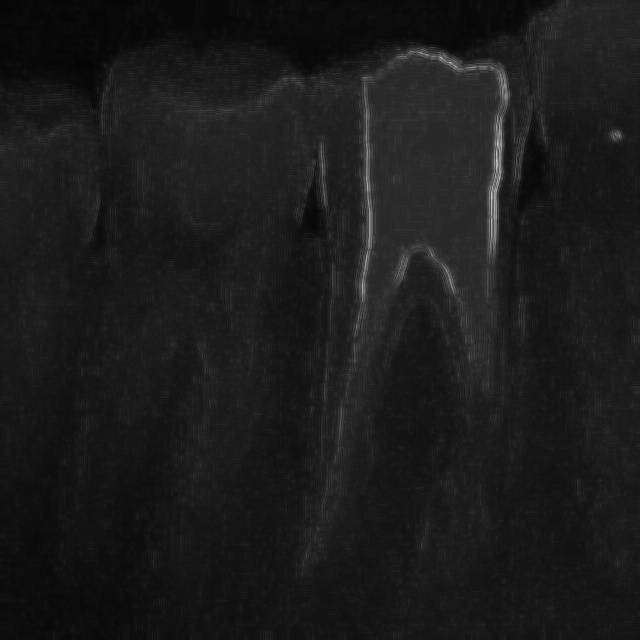Class 1- complete endodontic treatment: (306, 50, 550, 628)
